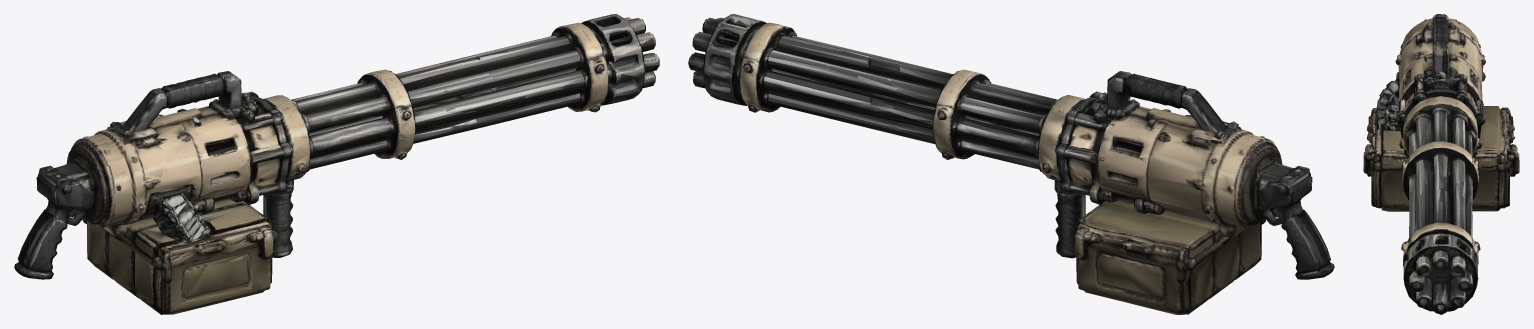
Rendered from deathmachine.glb.
The picture shows the model from 3 angles, left to right: view 1: azimuth 30°, elevation 25°; view 2: azimuth 150°, elevation 25°; view 3: azimuth 270°, elevation 25°; orthographic projection. The views are drawn at different scales.
Parts seen in each view (by area): view 1: tripo_node_8eeac272-c246-4a66-9e53-6cf8d1620ac1; view 2: tripo_node_8eeac272-c246-4a66-9e53-6cf8d1620ac1; view 3: tripo_node_8eeac272-c246-4a66-9e53-6cf8d1620ac1.
Part boxes in pixels (box(x1,y1,x2,y2)): tripo_node_8eeac272-c246-4a66-9e53-6cf8d1620ac1: box(14, 14, 659, 314); tripo_node_8eeac272-c246-4a66-9e53-6cf8d1620ac1: box(688, 14, 1334, 314); tripo_node_8eeac272-c246-4a66-9e53-6cf8d1620ac1: box(1363, 14, 1519, 314).
Bounding box in the file's own units: 0.9827 × 0.292 × 0.2472.
1 material, 1 textured.
